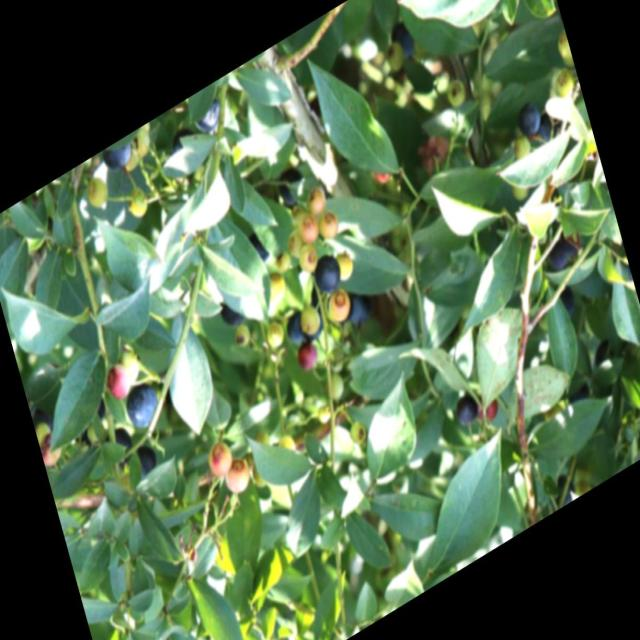blueberry: (120, 371, 166, 438), (190, 87, 226, 140), (310, 246, 344, 296), (512, 96, 544, 141), (102, 135, 136, 176), (452, 387, 482, 430), (389, 19, 416, 60), (246, 226, 270, 267), (219, 295, 246, 331)
blueberry-halfripe: (101, 358, 133, 407), (204, 436, 236, 482), (221, 453, 253, 499), (292, 333, 322, 375)
blueberry-unripe: (323, 282, 354, 329), (82, 170, 113, 214), (295, 296, 324, 340), (116, 342, 144, 385), (293, 235, 321, 278), (123, 179, 150, 221), (262, 264, 288, 306), (301, 183, 329, 222), (316, 206, 342, 246), (295, 210, 320, 250), (262, 313, 288, 351), (332, 246, 356, 285), (232, 317, 253, 350), (273, 247, 292, 276)
